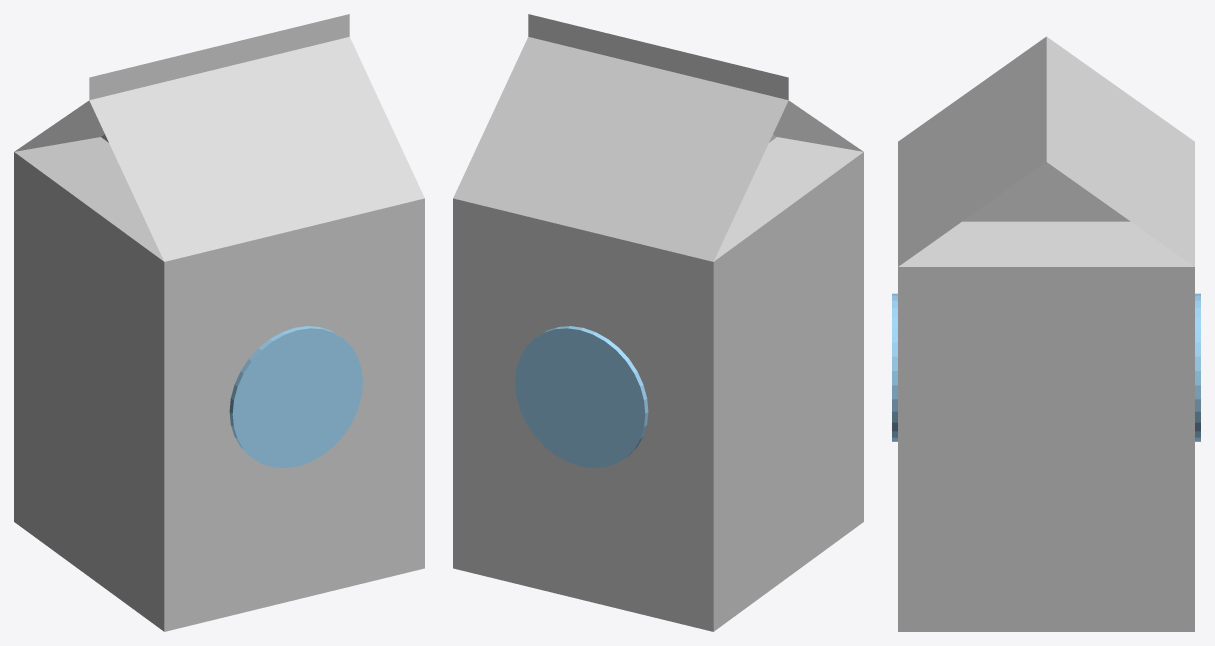
The model's file is milkcarton.fbx.
The picture shows the model from 3 angles, left to right: view 1: azimuth 30°, elevation 25°; view 2: azimuth 150°, elevation 25°; view 3: azimuth 270°, elevation 25°; orthographic projection.
Visible parts, largest first — view 1: Cube, Cylinder; view 2: Cube, Cylinder; view 3: Cube, Cylinder.
Boxes of the visible parts, x1,y1,x2,y2 form: Cube: (14, 14, 424, 631); Cylinder: (229, 326, 362, 468); Cube: (453, 14, 863, 631); Cylinder: (515, 326, 648, 468); Cube: (898, 36, 1194, 631); Cylinder: (892, 293, 1200, 441).
Bounding box in the file's own units: 120 × 220 × 125.
